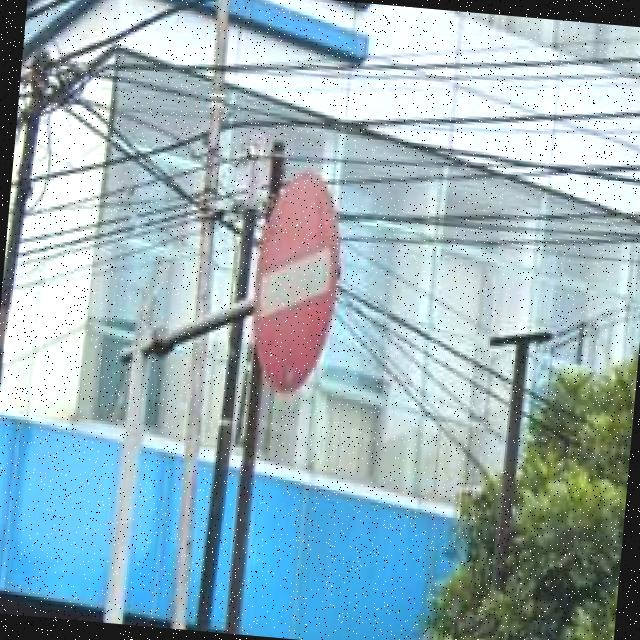Zakaz wjazdu: (246, 172, 348, 394)
